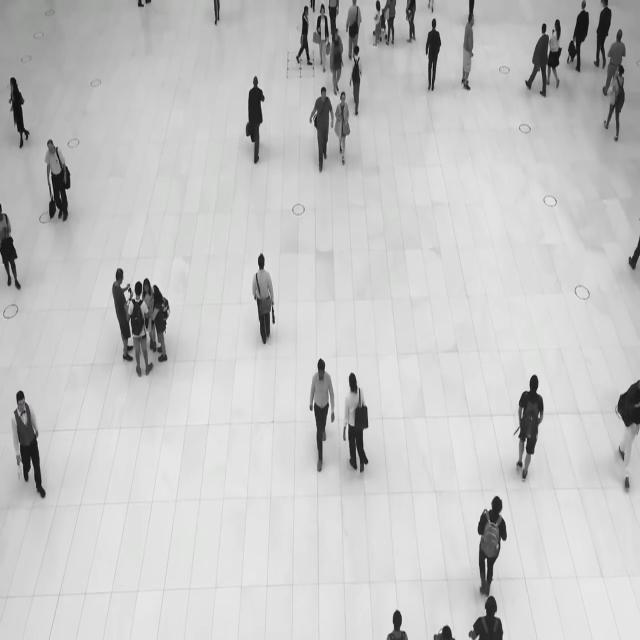Persona: (8, 379, 52, 508), (302, 344, 338, 492), (338, 362, 377, 489), (512, 366, 550, 490), (37, 122, 78, 236), (471, 494, 513, 604), (246, 248, 281, 352), (239, 66, 271, 177), (303, 78, 335, 182), (598, 51, 630, 146), (0, 190, 26, 304), (522, 17, 553, 111), (128, 276, 154, 379), (110, 253, 132, 370), (456, 4, 482, 102), (4, 65, 34, 147), (422, 15, 445, 104), (331, 79, 353, 172), (151, 275, 172, 369), (294, 2, 314, 74), (314, 0, 331, 76), (347, 42, 364, 118)
